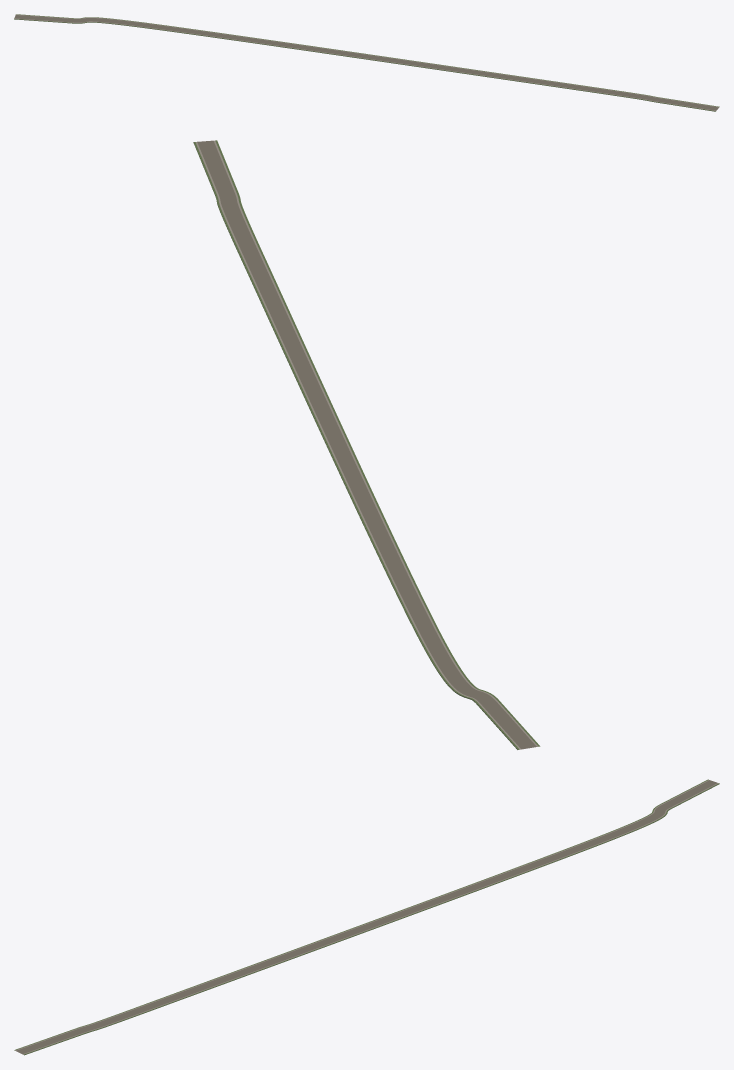
File: road_roam_to2_pine_ridge.glb
The picture shows the model from 3 angles, top to bottom: view 1: azimuth 30°, elevation 25°; view 2: azimuth 150°, elevation 25°; view 3: azimuth 270°, elevation 25°; orthographic projection. The views are drawn at different scales.
Parts seen in each view (by area): view 1: road; view 2: road; view 3: road.
Part boxes in pixels (x1,y1,x2,y2): road: (14,14,719,111); road: (193,140,540,749); road: (14,779,719,1055).
Size of the model in its own units: 507 by 0.32 by 548.
